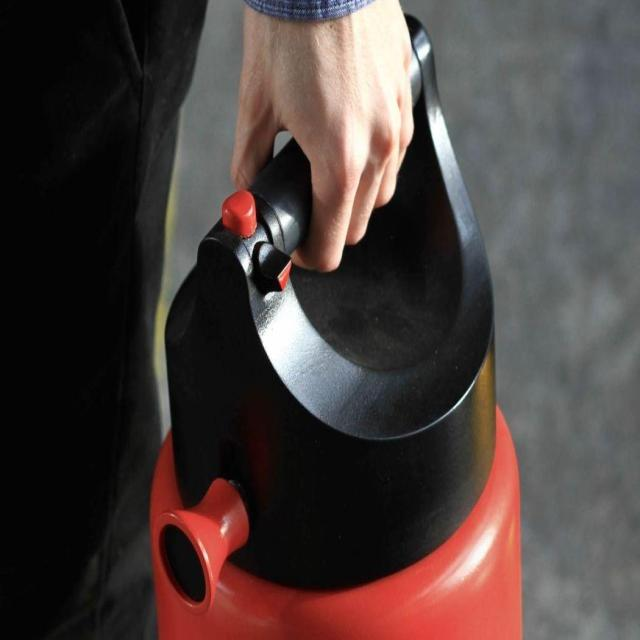fire_extinguisher: (138, 9, 528, 639)
